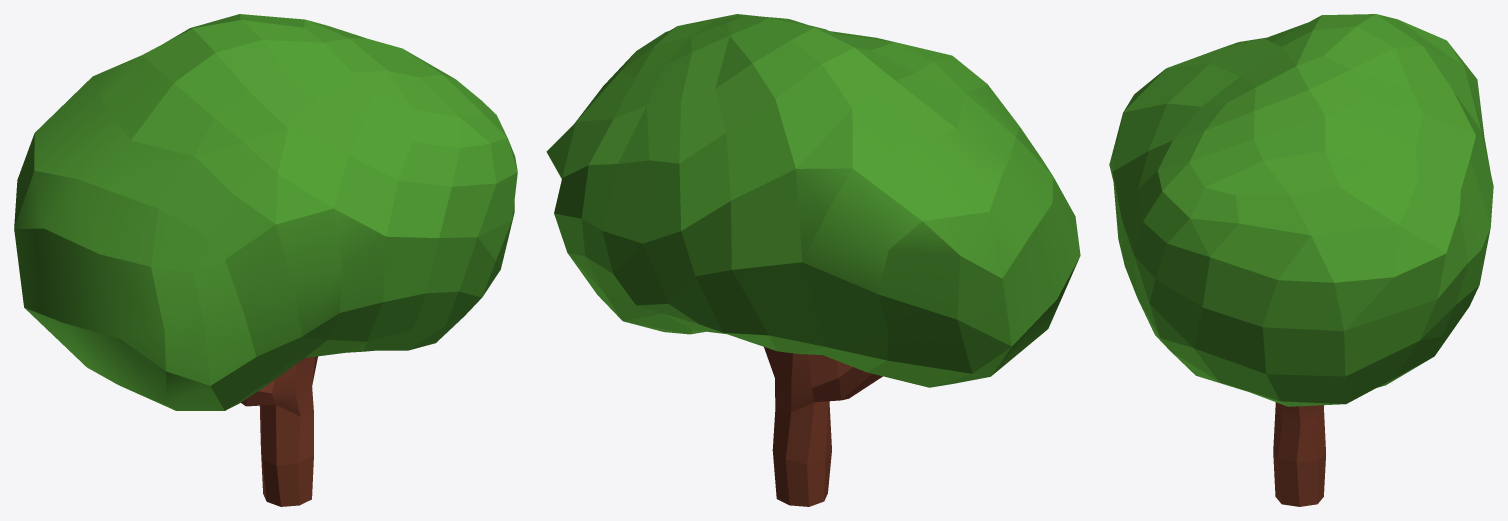
Rendered from maya_export_Tree4_v2.fbx.
3 renders of one model, left to right at view 1: azimuth 30°, elevation 25°; view 2: azimuth 150°, elevation 25°; view 3: azimuth 270°, elevation 25°, orthographic. The views are drawn at different scales.
Parts seen in each view (by area): view 1: Tree4_v2; view 2: Tree4_v2; view 3: Tree4_v2.
Boxes of the visible parts, bbox=[...] form: Tree4_v2: bbox=[14, 14, 517, 506]; Tree4_v2: bbox=[546, 14, 1080, 506]; Tree4_v2: bbox=[1109, 14, 1493, 506].
Size of the model in its own units: 7.87 by 7.89 by 5.95.
Materials: 1 (1 with a texture image).
